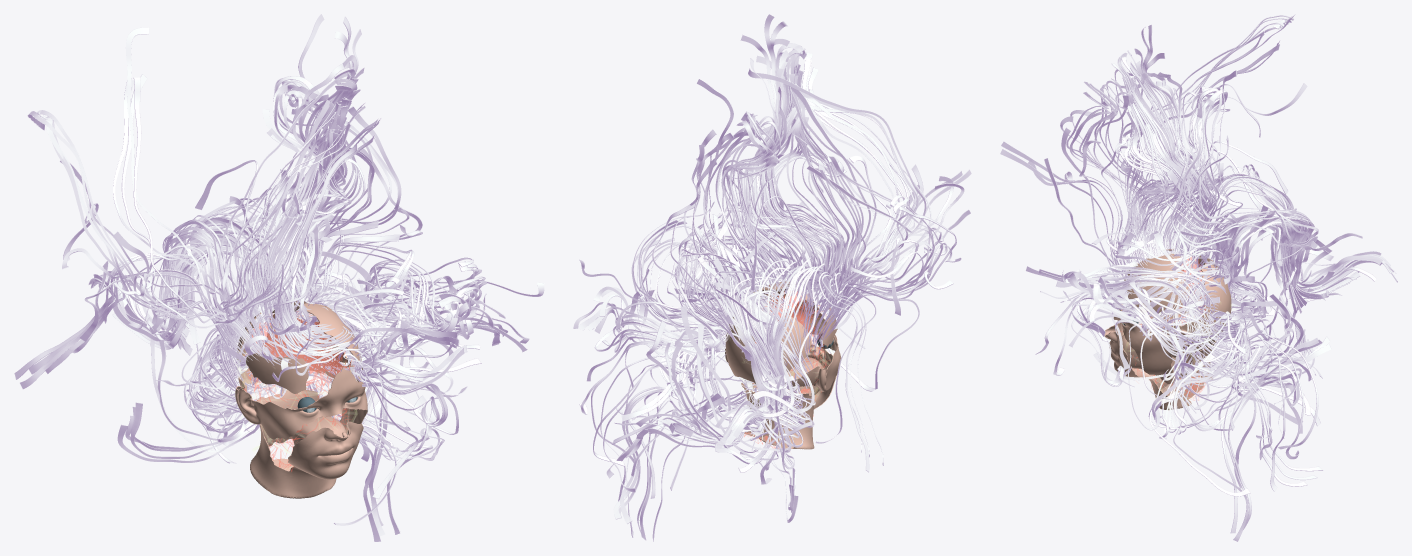
Rendered from robot_girl_with_hair_wires-v1.glb.
The picture shows the model from 3 angles, left to right: view 1: azimuth 30°, elevation 25°; view 2: azimuth 150°, elevation 25°; view 3: azimuth 270°, elevation 25°; orthographic projection. The views are drawn at different scales.
Parts seen in each view (by area): view 1: Object_8, Object_9, Object_10, HG_Body.001_1, Object_7, Object_11, Object_6, Object_4, Object_5, HG_Body.002_2; view 2: Object_8, Object_10, Object_9, Object_7, Object_11, Object_4, Object_6, Object_5, HG_Body.001_1, HG_Body.002_2; view 3: Object_8, Object_9, Object_10, Object_7, Object_4, Object_5, Object_11, HG_Body.001_1, Object_6.
Boxes of the visible parts, x1,y1,x2,y2 form: Object_8: [20, 17, 543, 540]; Object_9: [14, 14, 529, 541]; Object_10: [15, 28, 507, 536]; HG_Body.001_1: [235, 301, 367, 498]; Object_7: [30, 17, 538, 534]; Object_11: [74, 18, 544, 525]; Object_6: [16, 38, 523, 532]; Object_4: [41, 53, 505, 541]; Object_5: [39, 14, 538, 525]; HG_Body.002_2: [243, 311, 354, 471]; Object_8: [578, 14, 970, 540]; Object_10: [579, 52, 970, 538]; Object_9: [573, 22, 971, 530]; Object_7: [574, 14, 963, 540]; Object_11: [579, 14, 953, 522]; Object_4: [593, 45, 969, 520]; Object_6: [578, 48, 956, 541]; Object_5: [579, 15, 955, 537]; HG_Body.001_1: [725, 281, 841, 449]; HG_Body.002_2: [744, 291, 830, 448]; Object_8: [1000, 22, 1390, 540]; Object_9: [1002, 15, 1397, 532]; Object_10: [1001, 15, 1391, 541]; Object_7: [1038, 14, 1397, 529]; Object_4: [1003, 15, 1385, 533]; Object_5: [1035, 20, 1395, 518]; Object_11: [1039, 25, 1393, 523]; HG_Body.001_1: [1104, 249, 1231, 410]; Object_6: [1062, 29, 1397, 539].
Bounding box in the file's own units: 7.06 × 8.65 × 6.55.
6 materials, 1 textured.
